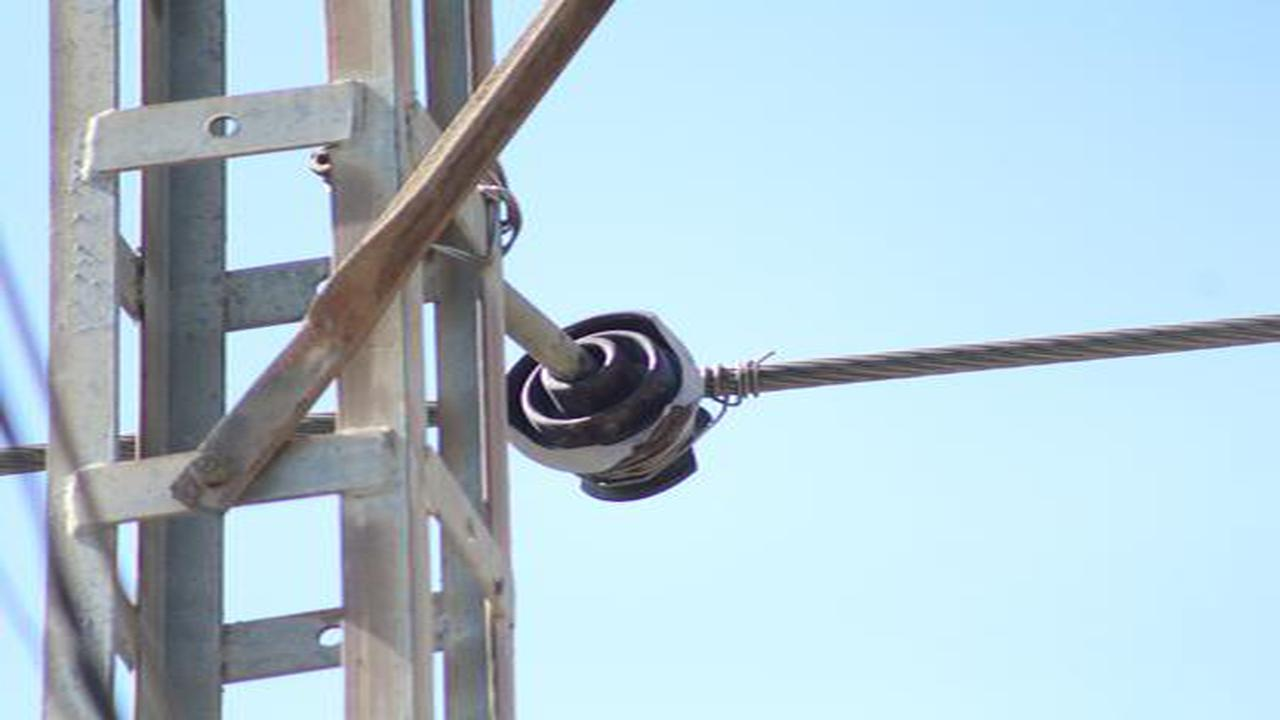defect_pin: (502, 308, 729, 507)
